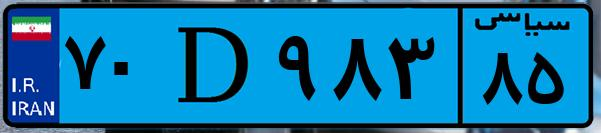0: (110, 28, 158, 98)
3: (385, 28, 445, 110)
5: (525, 38, 570, 115)
7: (57, 26, 110, 100)
8: (330, 28, 385, 110), (475, 38, 525, 113)
9: (270, 28, 330, 110)
D: (158, 12, 270, 120)
